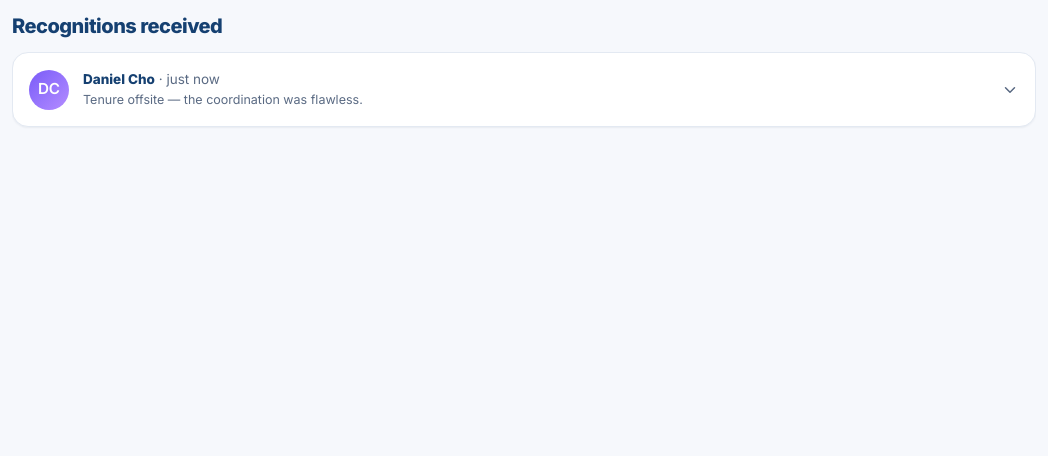
Test case: RecognitionsReceived expand/collapse › expands the postcard, then collapses it again, and treats missing points as zero
Click the button "Daniel Cho" at x=49, y=90, box [13,53,1035,126]
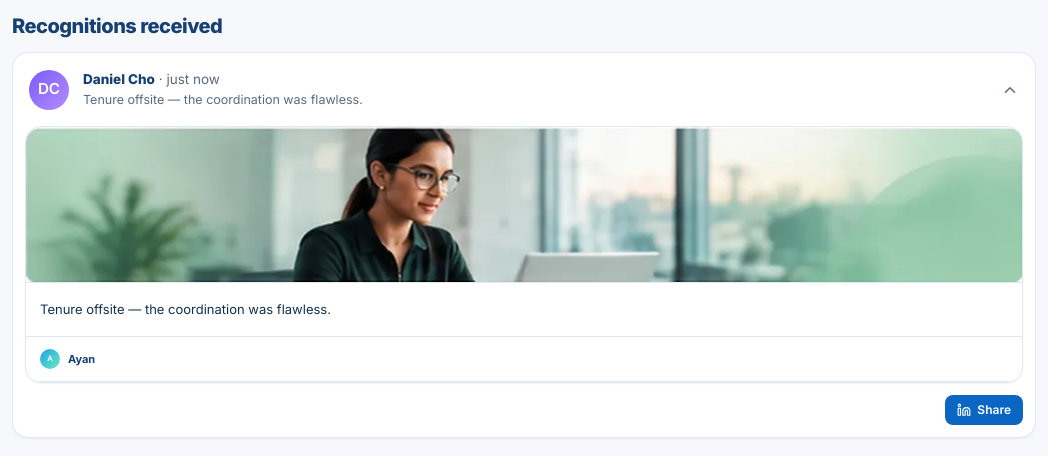
Result: the button "Daniel Cho" is expanded
Result: the text "Ayan" is shown at [68,351,95,367]
Click the button "Daniel Cho" at x=49, y=90, box [13,53,1035,126]
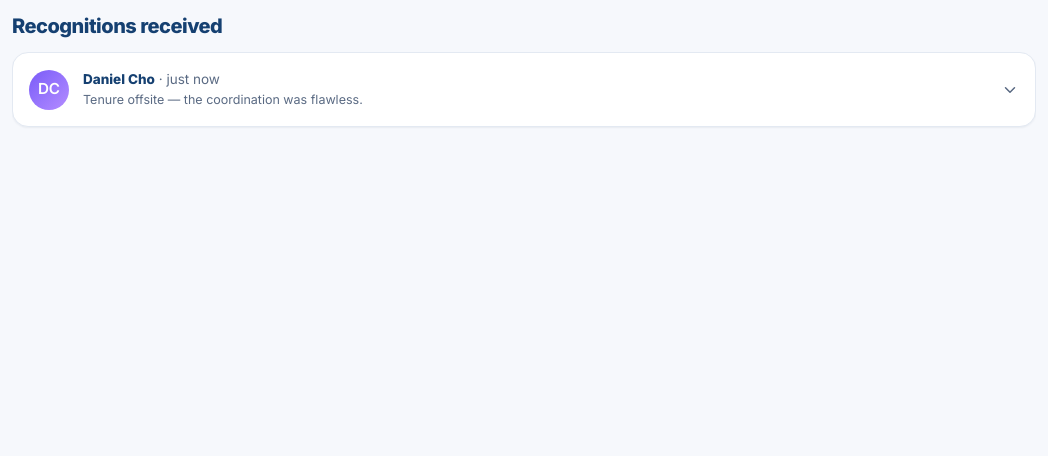
Result: the button "Daniel Cho" is collapsed at [13,53,1035,126]
